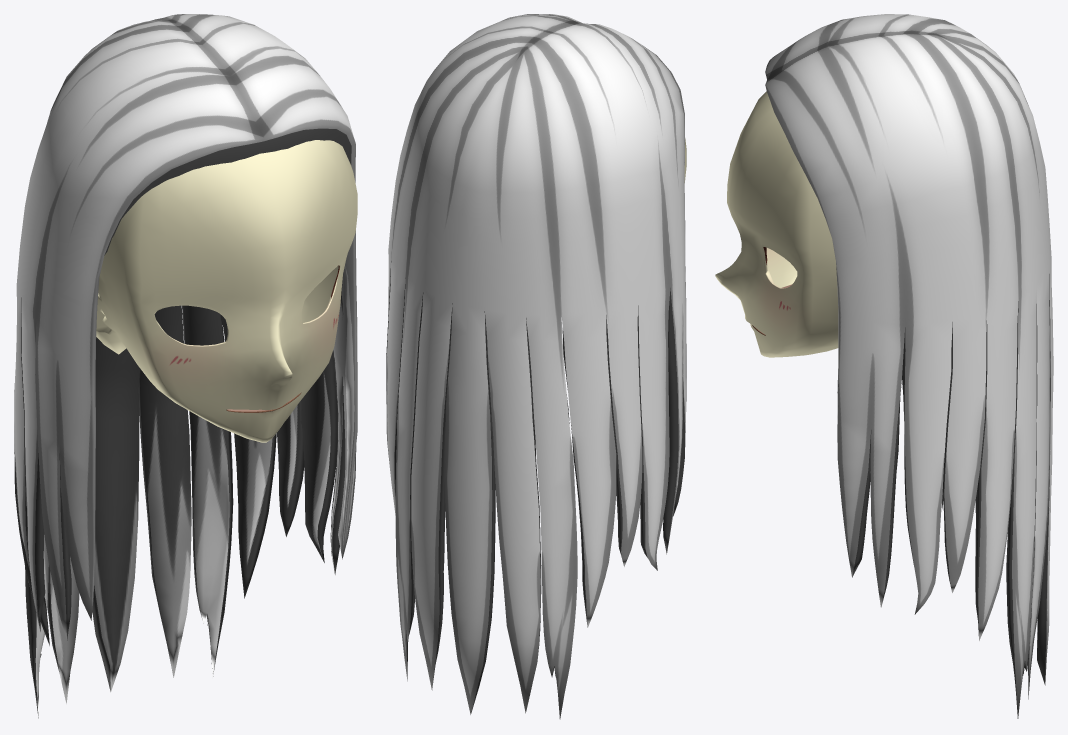
The model's file is kohaku_head_hairback.fbx.
3 renders of one model, left to right at view 1: azimuth 30°, elevation 25°; view 2: azimuth 150°, elevation 25°; view 3: azimuth 270°, elevation 25°, orthographic. The views are drawn at different scales.
Parts seen in each view (by area): view 1: hairBack, head; view 2: hairBack; view 3: hairBack, head.
Boxes of the visible parts, bbox=[...] form: hairBack: bbox=[14, 14, 357, 718]; head: bbox=[96, 140, 357, 442]; hairBack: bbox=[386, 14, 686, 719]; hairBack: bbox=[765, 14, 1053, 718]; head: bbox=[715, 91, 838, 357].
Bounding box in the file's own units: 20.1 × 44.63 × 20.91.
